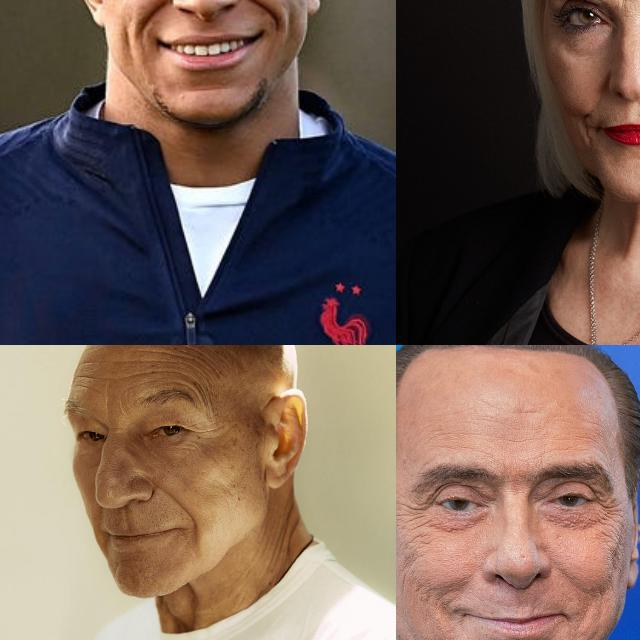crows_feet: (396, 495, 431, 526), (189, 422, 225, 446), (596, 493, 624, 522)
forehead: (136, 347, 194, 381), (72, 366, 98, 396), (195, 388, 217, 420)
frown_line: (100, 394, 114, 421), (612, 0, 630, 10)
gummy_smile: (156, 481, 198, 517), (242, 0, 283, 21), (140, 0, 166, 28)
masseter: (397, 552, 427, 600), (116, 21, 140, 61)
sad_smile: (576, 112, 596, 144)
